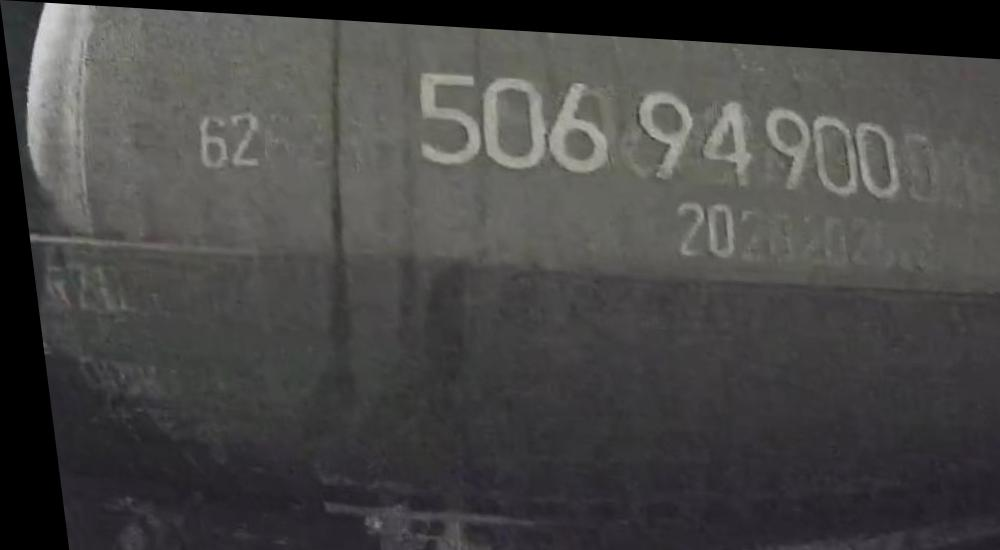Wagon-number: (398, 54, 904, 194)
